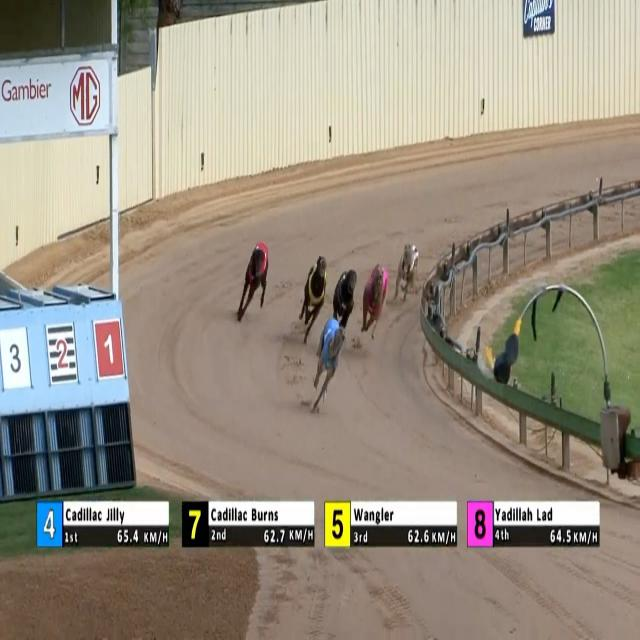dog_eight: (361, 260, 391, 330)
dog_five: (302, 252, 330, 312)
dog_four: (320, 321, 348, 379)
dog_one: (242, 234, 274, 290)
dog_seven: (332, 260, 359, 319)
dog_two: (398, 240, 428, 298)
rail: (419, 182, 640, 466)
